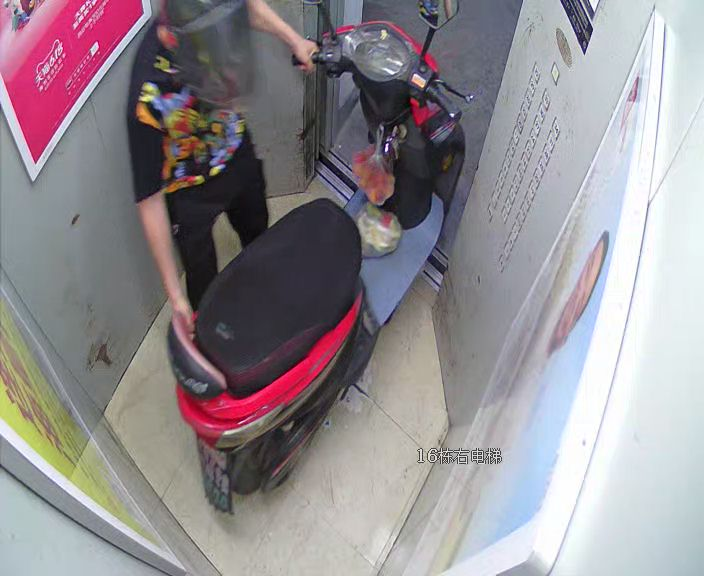Electric-bicycle: (165, 1, 473, 499)
